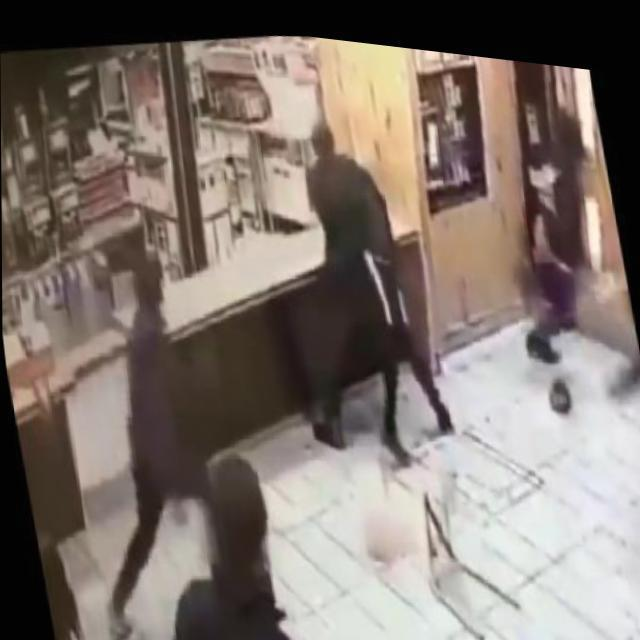fight: (289, 102, 427, 444)
